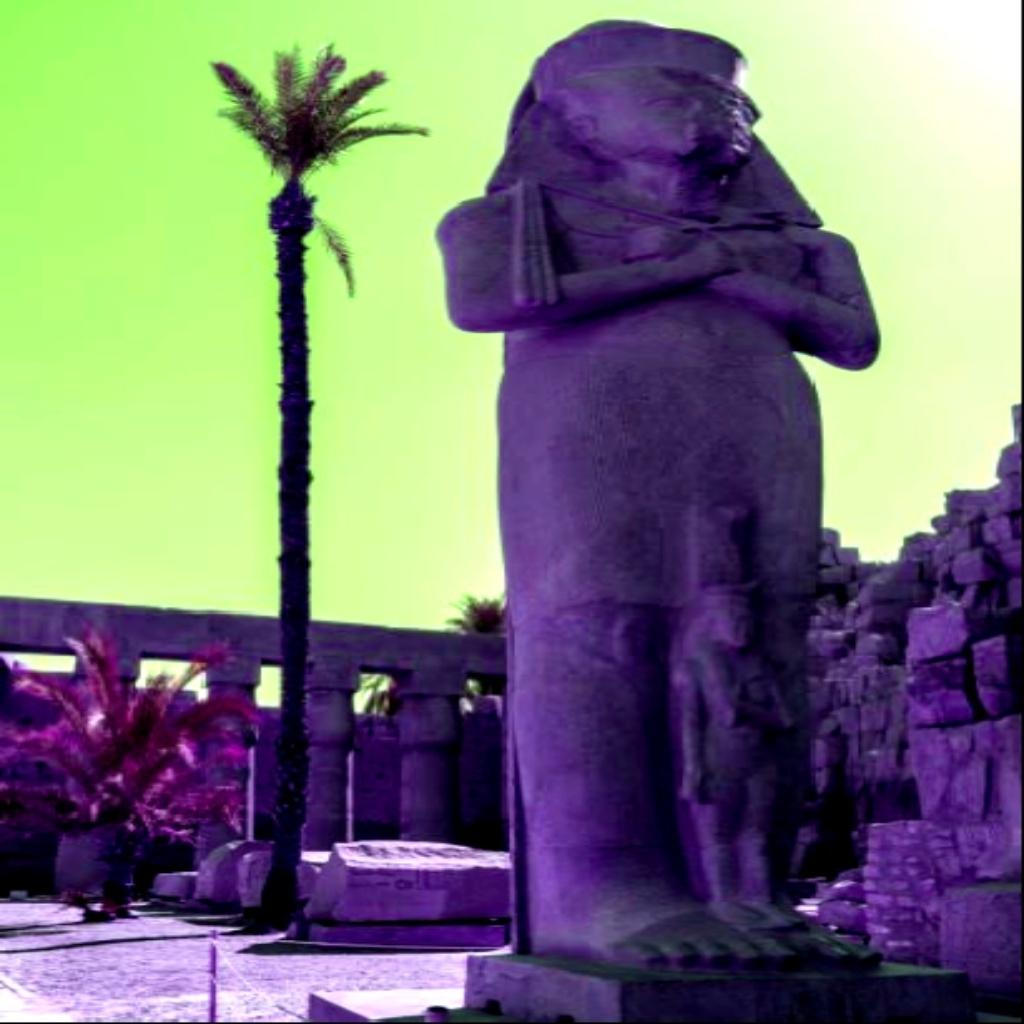Standing Statue of King Ramses II: (430, 16, 888, 976)
